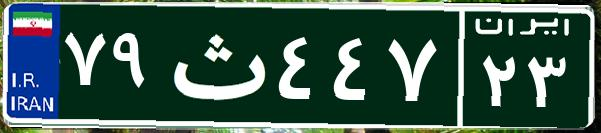2: (475, 38, 525, 113)
3: (525, 38, 570, 115)
4: (273, 28, 330, 110), (330, 28, 385, 110)
7: (385, 28, 445, 110), (57, 26, 110, 107)
9: (110, 28, 158, 105)
ث: (158, 15, 273, 115)
